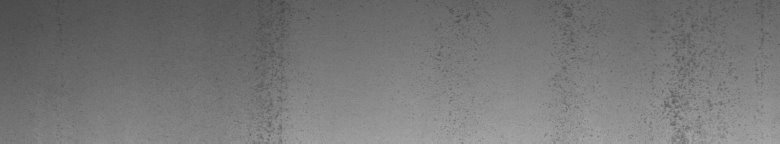ib: (644, 12, 769, 136)
